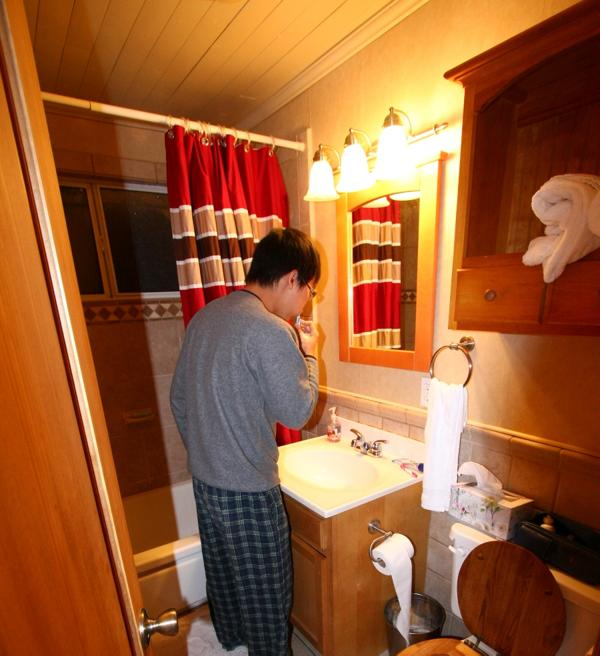person: (170, 225, 319, 655)
